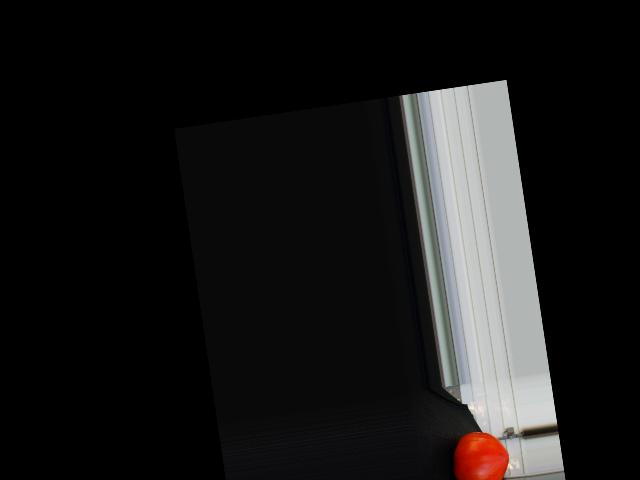tomato: (448, 427, 514, 480)
